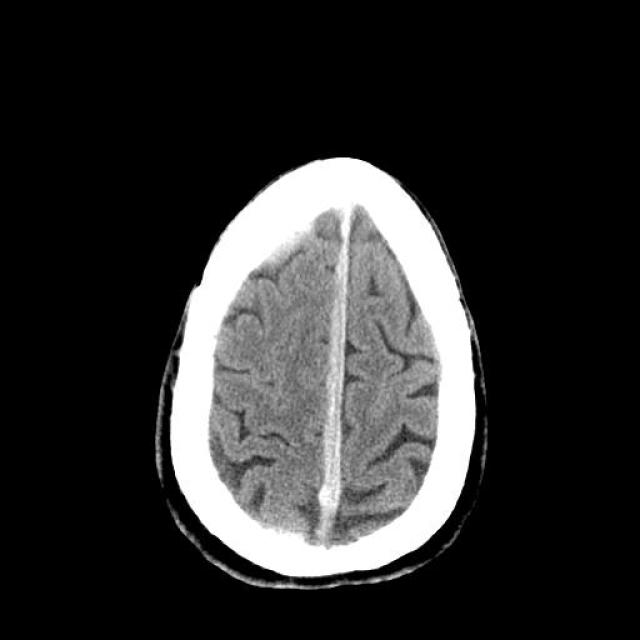Subdural: (310, 191, 386, 555)
